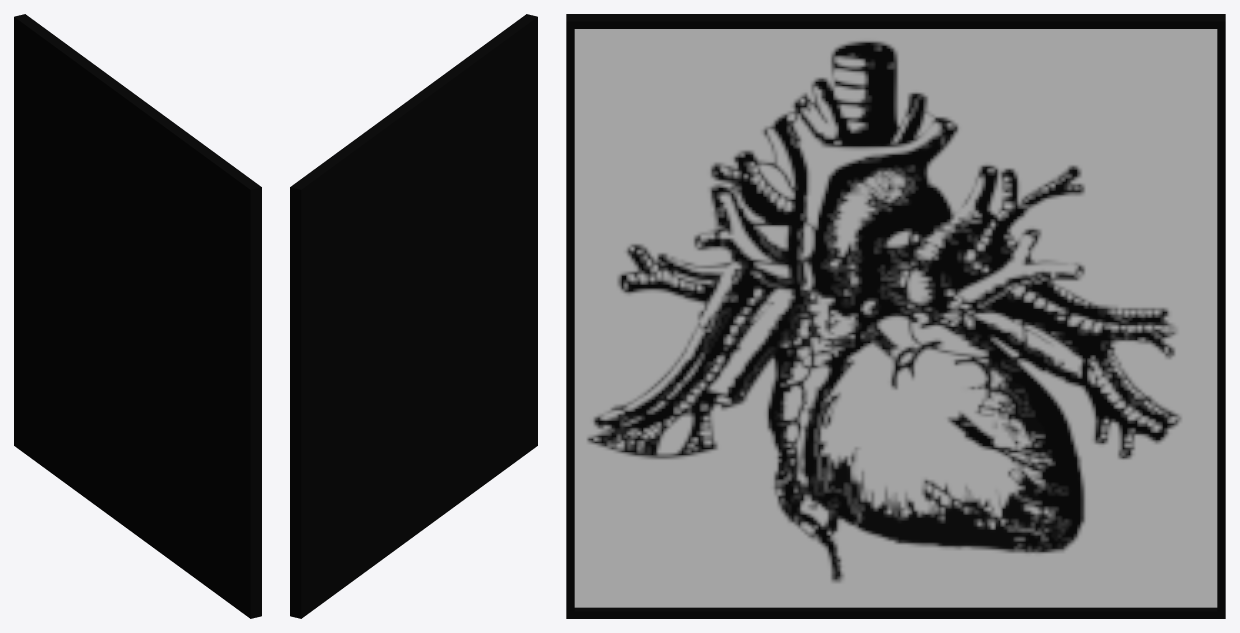
Rendered from PhotoframeA.fbx.
3 renders of one model, left to right at view 1: azimuth 30°, elevation 25°; view 2: azimuth 150°, elevation 25°; view 3: azimuth 270°, elevation 25°, orthographic. The views are drawn at different scales.
Parts seen in each view (by area): view 1: PhotoframeA; view 2: PhotoframeA; view 3: PhotoframeA.
Boxes of the visible parts, x1=… form: PhotoframeA: x1=14, y1=14, x2=261, y2=618; PhotoframeA: x1=290, y1=14, x2=537, y2=618; PhotoframeA: x1=566, y1=14, x2=1225, y2=618.
Size of the model in its own units: 3.82 by 139 by 139.
1 material, 1 textured.
